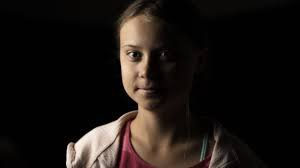noMask: (108, 4, 197, 109)
